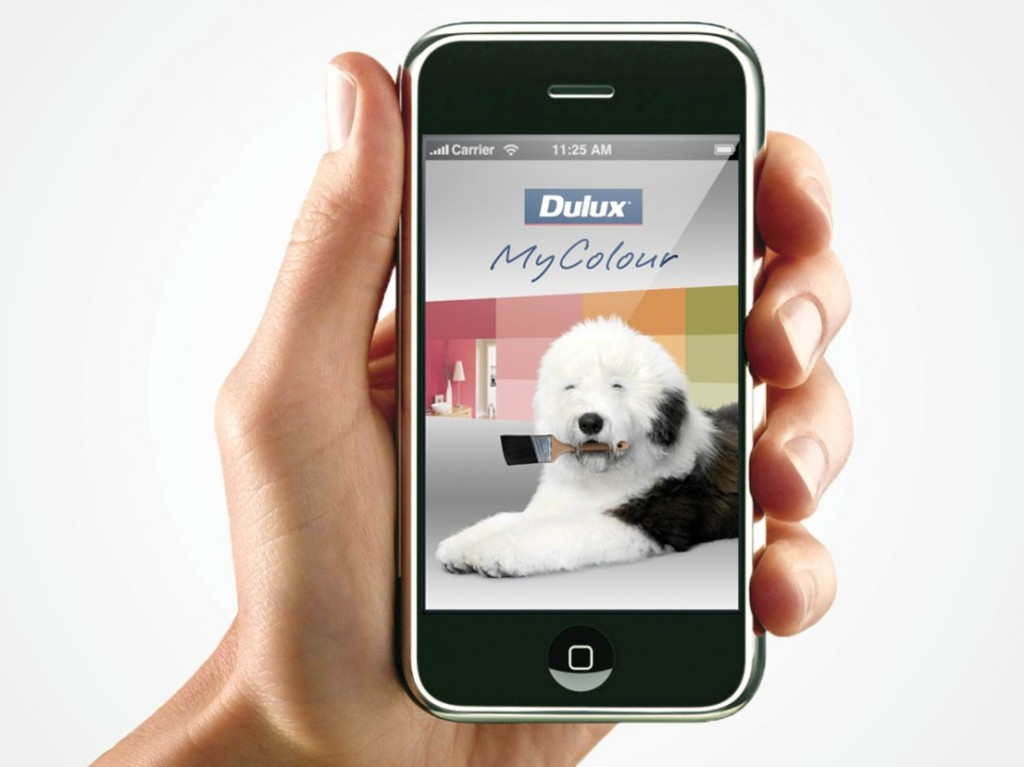Mobile-phone: (392, 15, 778, 726)
